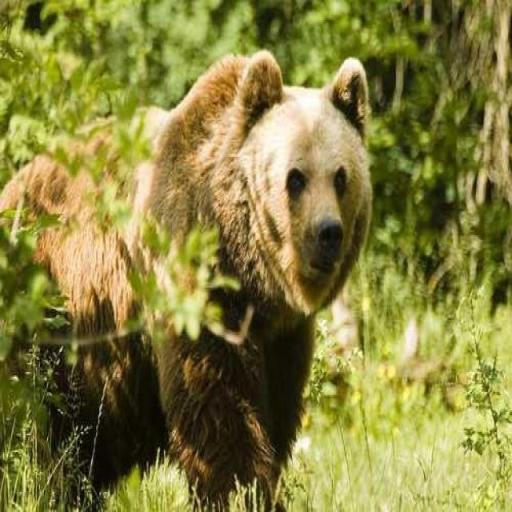Bear: (0, 48, 373, 510)
